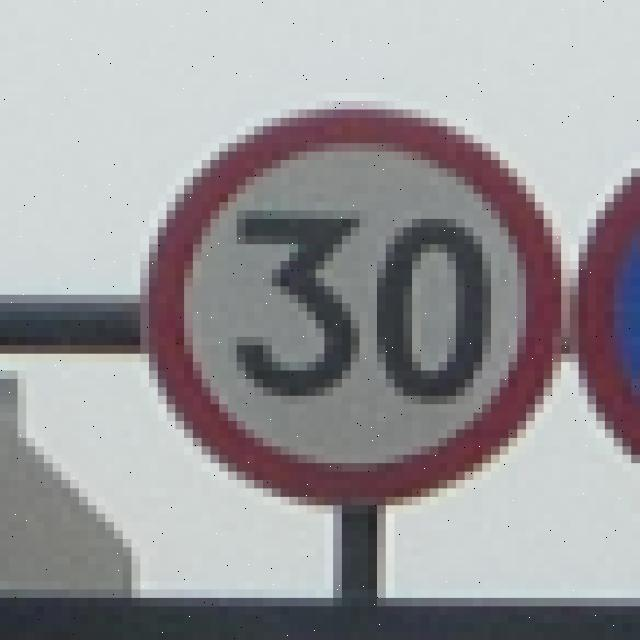speed limit 30: (147, 106, 561, 509)
